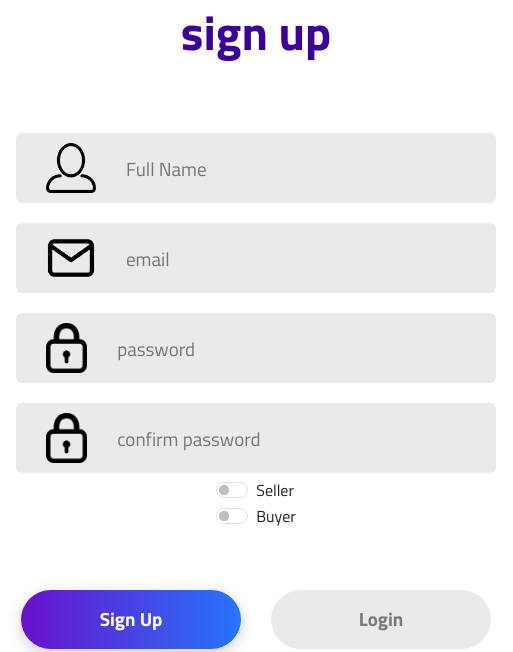
Test: LoginSignup Component › displays the forgot password link when in login mode
Step 1. Click the text "Login" → coordinates (381, 620), box top-left (271, 590), bottom-right (491, 649)
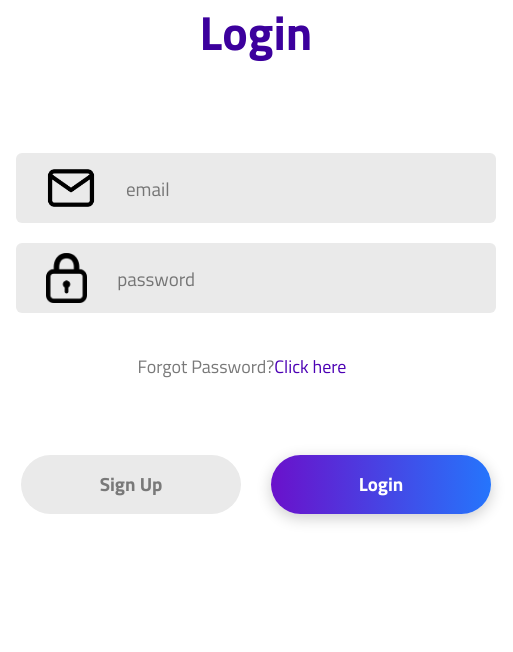
Expected: the text "Forgot Password?" is shown, top-left (138, 353), bottom-right (274, 380)
